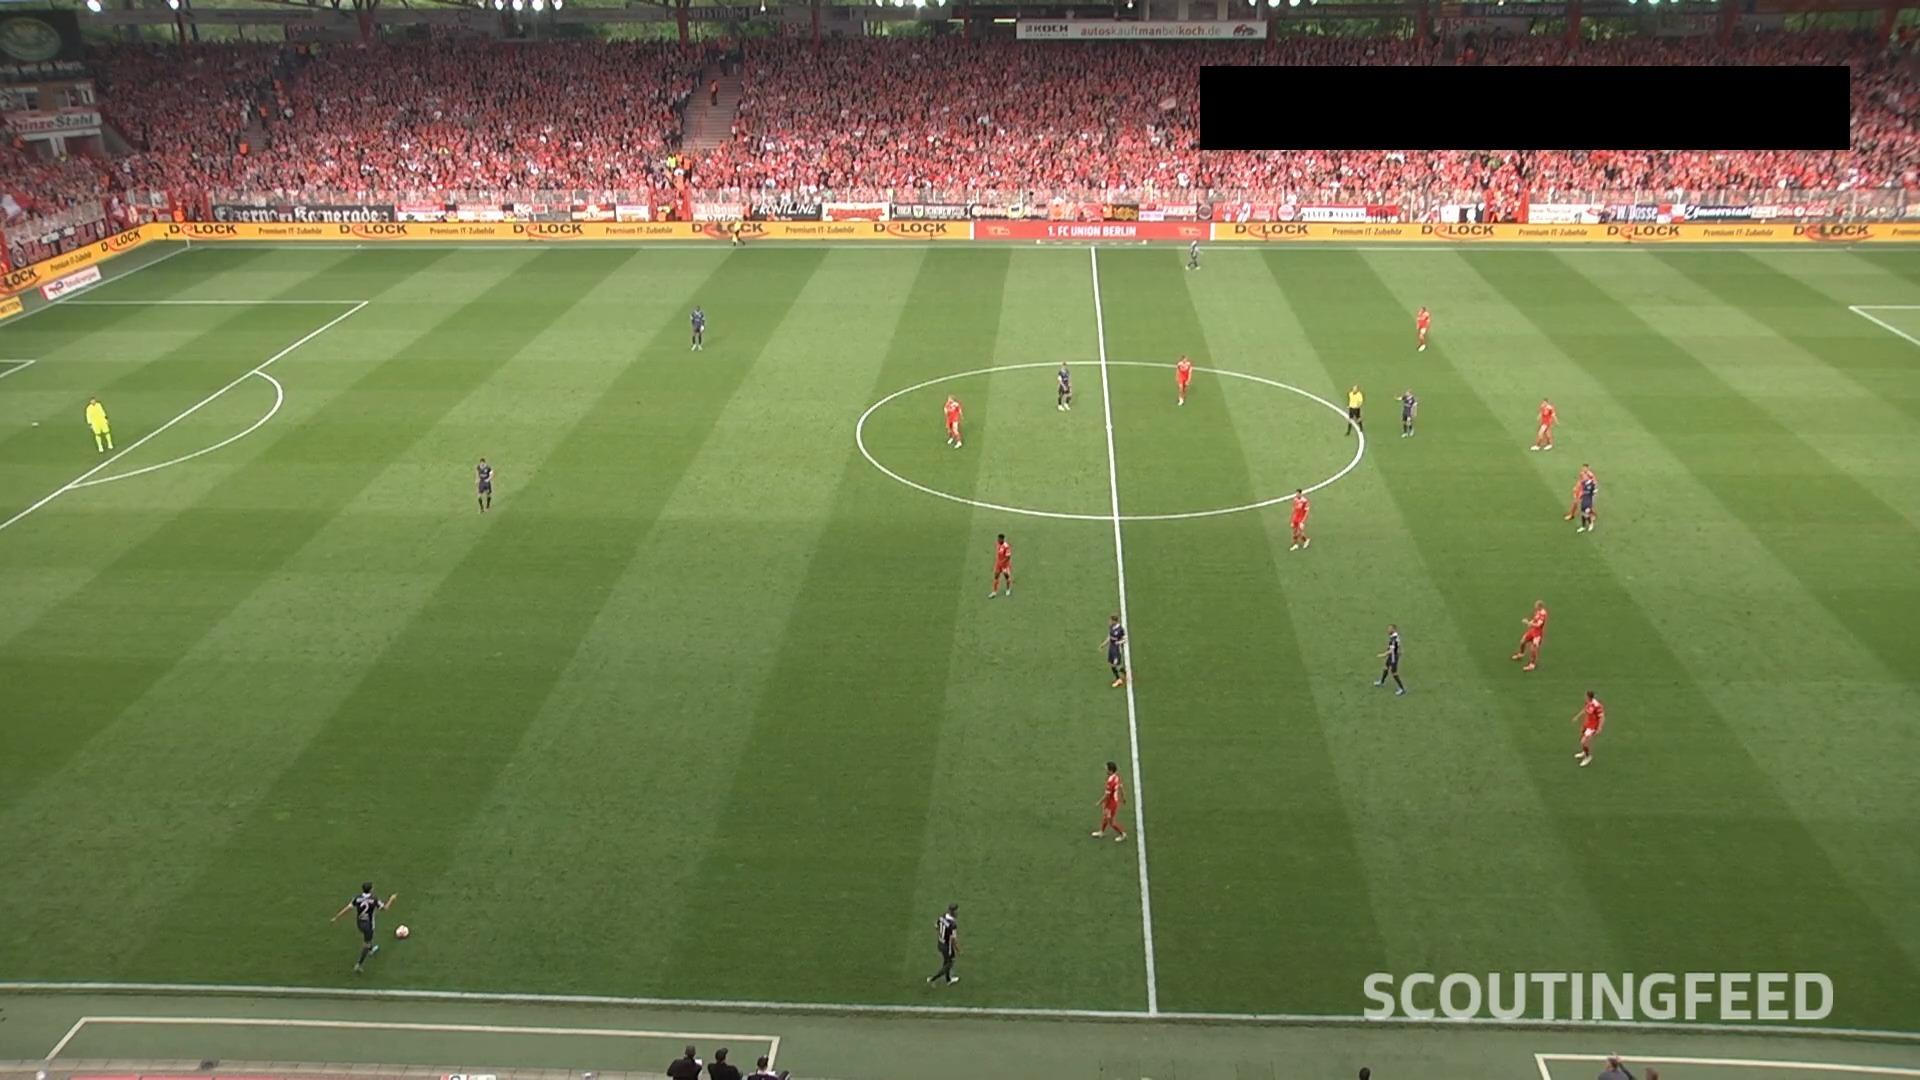ball: (394, 923, 410, 940)
